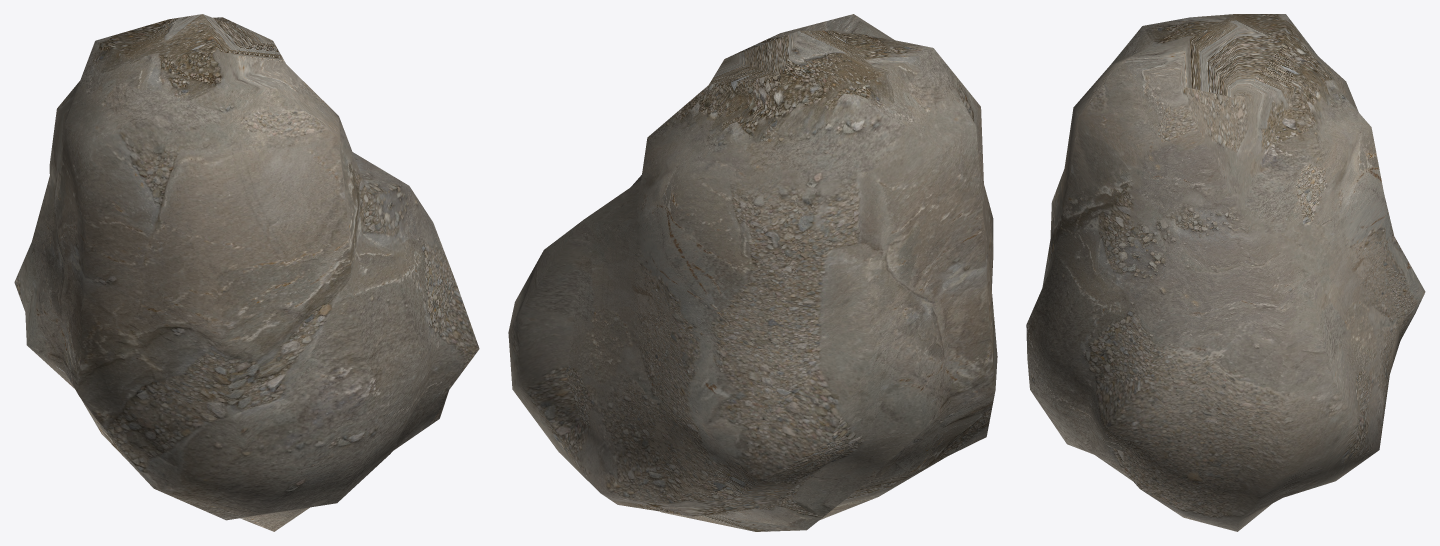
The model's file is rocks.glb.
The picture shows the model from 3 angles, left to right: view 1: azimuth 30°, elevation 25°; view 2: azimuth 150°, elevation 25°; view 3: azimuth 270°, elevation 25°; orthographic projection. The views are drawn at different scales.
Parts seen in each view (by area): view 1: rock.001; view 2: rock.001; view 3: rock.001.
Part boxes in pixels (x1,y1,x2,y2): rock.001: (14,14,479,531); rock.001: (508,14,997,531); rock.001: (1026,14,1425,531).
Size of the model in its own units: 0.9412 by 1.14 by 0.8897.
1 material, 1 textured.
